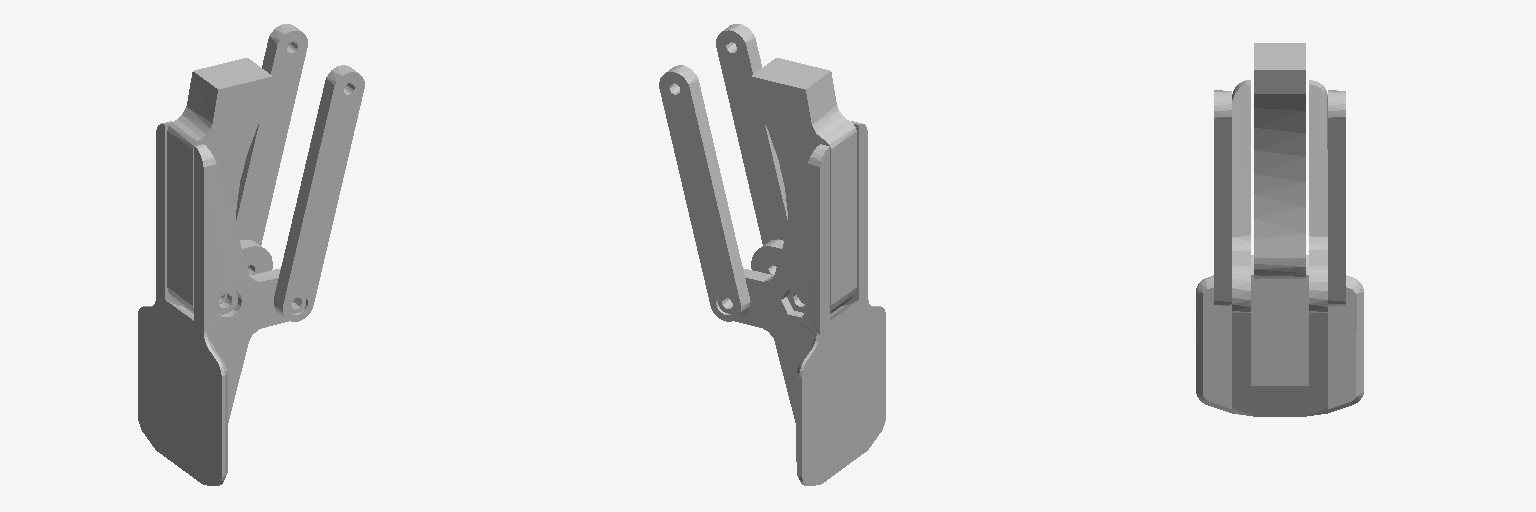
The model's file is gripper_finger.obj.
3 renders of one model, left to right at view 1: azimuth 30°, elevation 25°; view 2: azimuth 150°, elevation 25°; view 3: azimuth 270°, elevation 25°, orthographic.
Visible parts, largest first — view 1: Finger_L; view 2: Finger_L; view 3: Finger_L.
Part boxes in pixels (bbox=[...]): Finger_L: bbox=[138, 24, 364, 485]; Finger_L: bbox=[659, 24, 885, 485]; Finger_L: bbox=[1196, 43, 1363, 416].
Size of the model in its own units: 48.04 by 116 by 45.97.